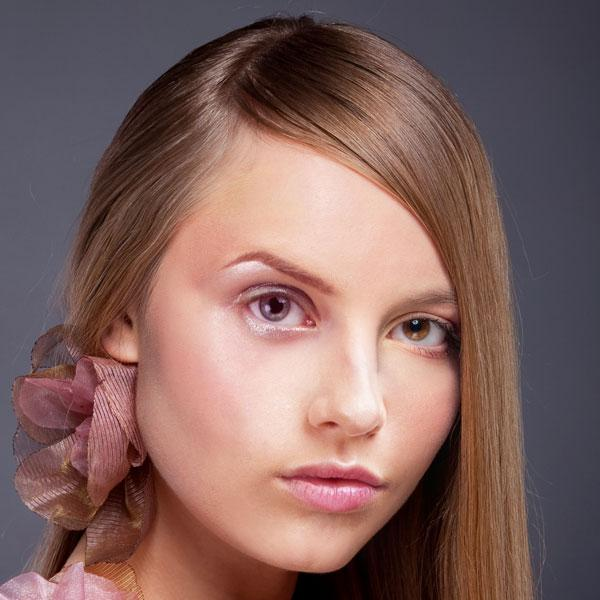Eyes: (229, 270, 326, 341), (376, 299, 461, 369)
